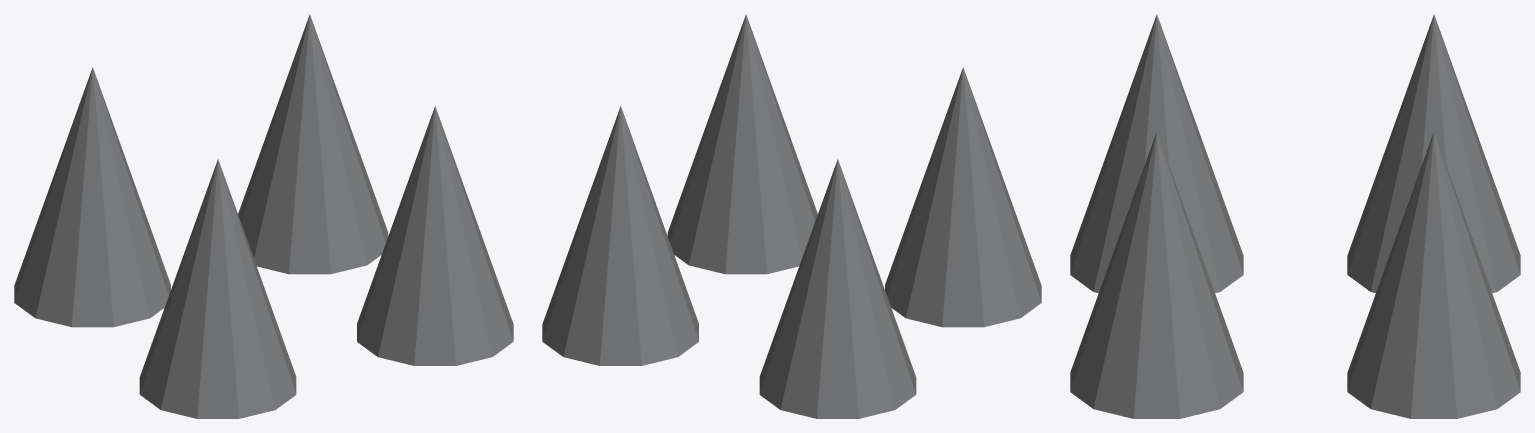
File: floorSpikes.fbx
3 views of the same model, side by side, from view 1: azimuth 30°, elevation 25°; view 2: azimuth 150°, elevation 25°; view 3: azimuth 270°, elevation 25° (orthographic). The views are drawn at different scales.
Visible parts, largest first — view 1: spike_1, spike, spike_2, spike_3; view 2: spike_2, spike_3, spike_1, spike; view 3: spike, spike_3, spike_1, spike_2.
Part boxes in pixels (x1,y1,x2,y2): spike_1: (139,159,296,418); spike: (357,106,513,365); spike_2: (14,67,170,327); spike_3: (238,14,388,274); spike_2: (759,159,916,418); spike_3: (542,106,698,365); spike_1: (885,67,1041,327); spike: (667,14,817,274); spike: (1070,131,1243,418); spike_3: (1347,131,1520,418); spike_1: (1070,14,1243,293); spike_2: (1347,14,1520,293).
Bounding box in the file's own units: 81.25 × 50 × 81.25.
1 material, 1 textured.
